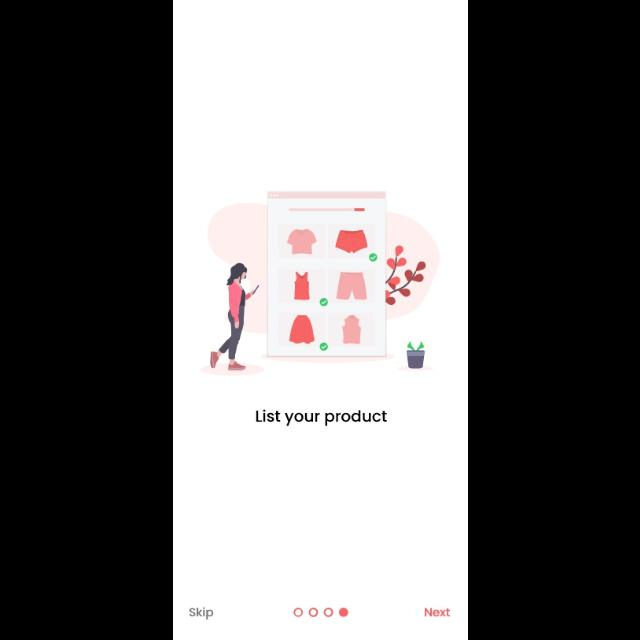image: (200, 190, 438, 376)
pageindicator: (292, 606, 348, 618)
text: (255, 409, 388, 427), (188, 608, 214, 620), (424, 607, 450, 617)
